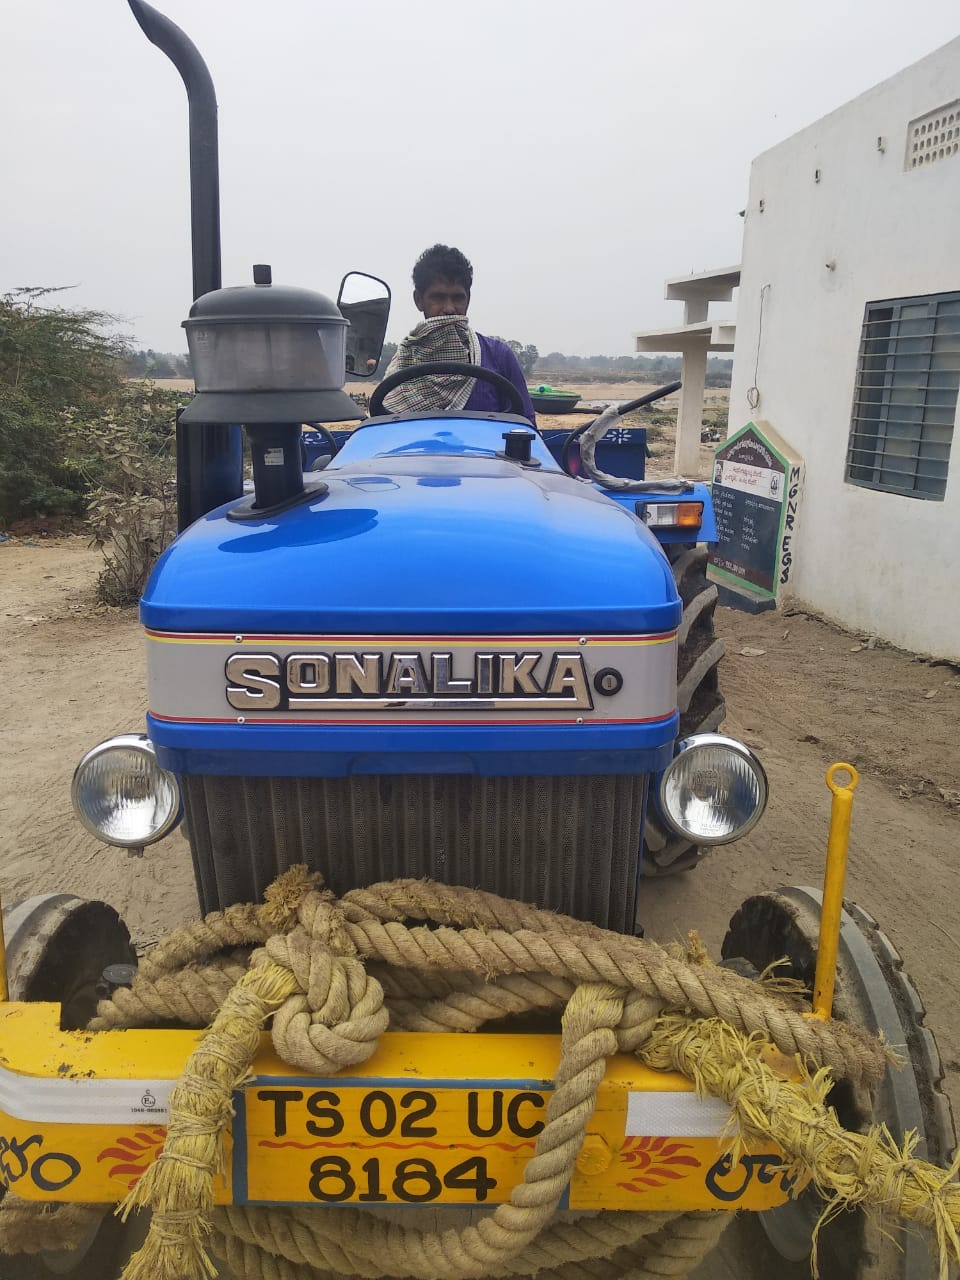license_plate: (231, 1078, 555, 1215)
